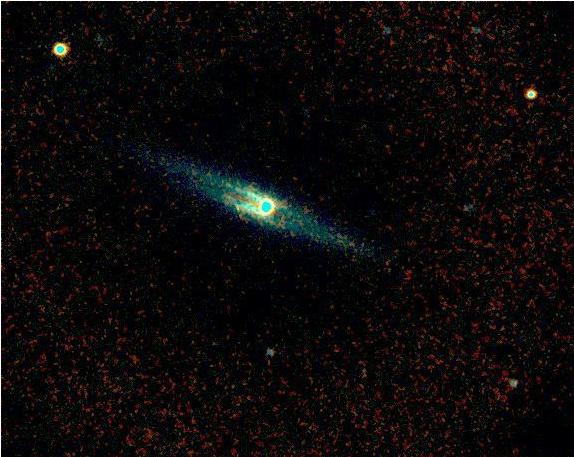star: (221, 194, 251, 224)
